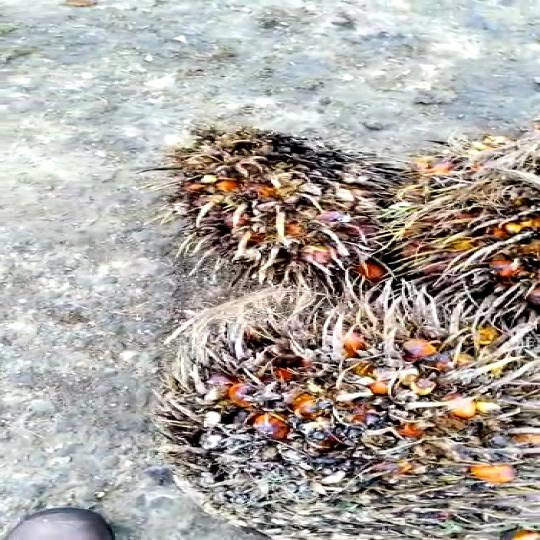terlalu masak: (138, 282, 540, 540), (157, 112, 397, 295)
